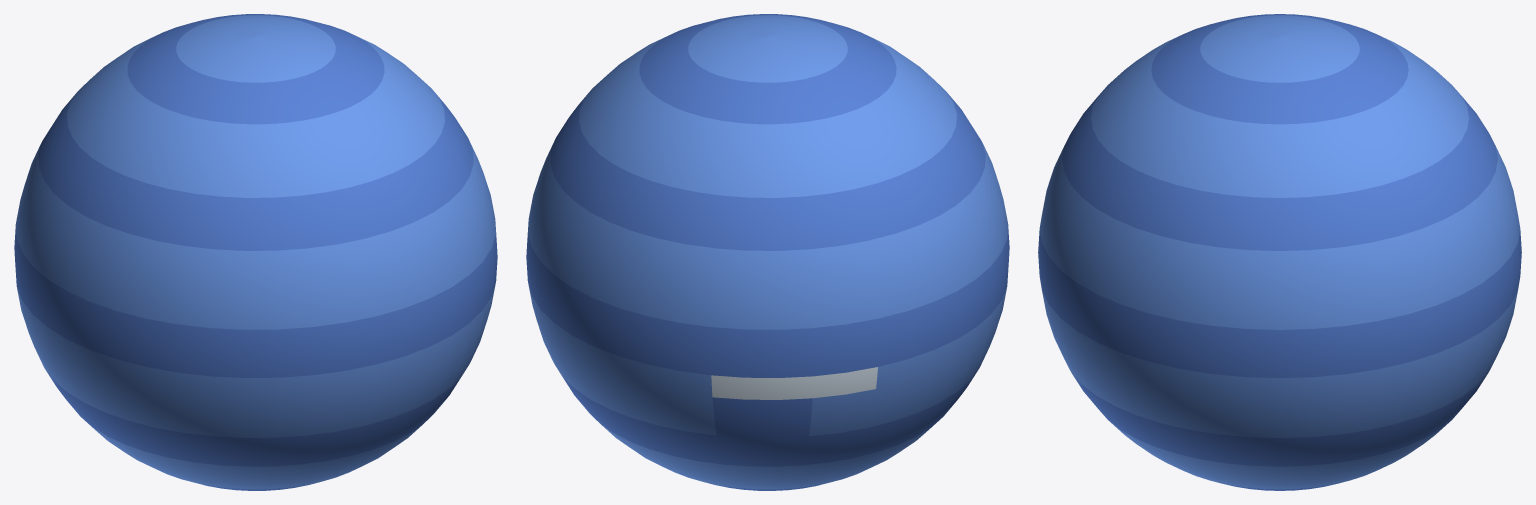
Rendered from planet-neptune.glb.
3 views of the same model, side by side, from view 1: azimuth 30°, elevation 25°; view 2: azimuth 150°, elevation 25°; view 3: azimuth 270°, elevation 25° (orthographic).
Visible parts, largest first — view 1: Neptune_Globe; view 2: Neptune_Globe; view 3: Neptune_Globe.
Part boxes in pixels (<box>): Neptune_Globe: <box>14,14,497,490</box>; Neptune_Globe: <box>526,14,1009,490</box>; Neptune_Globe: <box>1038,14,1521,490</box>.
Bounding box in the file's own units: 2 × 1.97 × 2.
